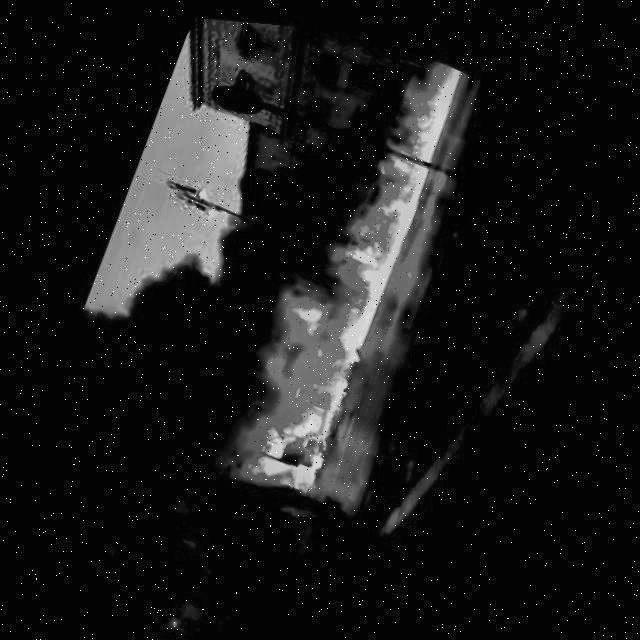Fire: (201, 15, 462, 519)
Smoke: (0, 0, 401, 640)
